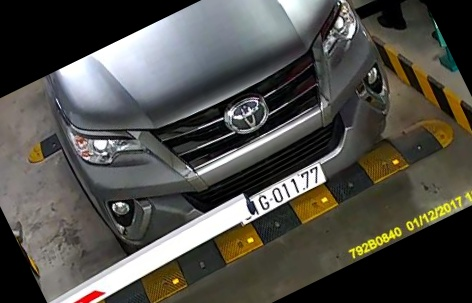plate: (239, 153, 331, 233)
